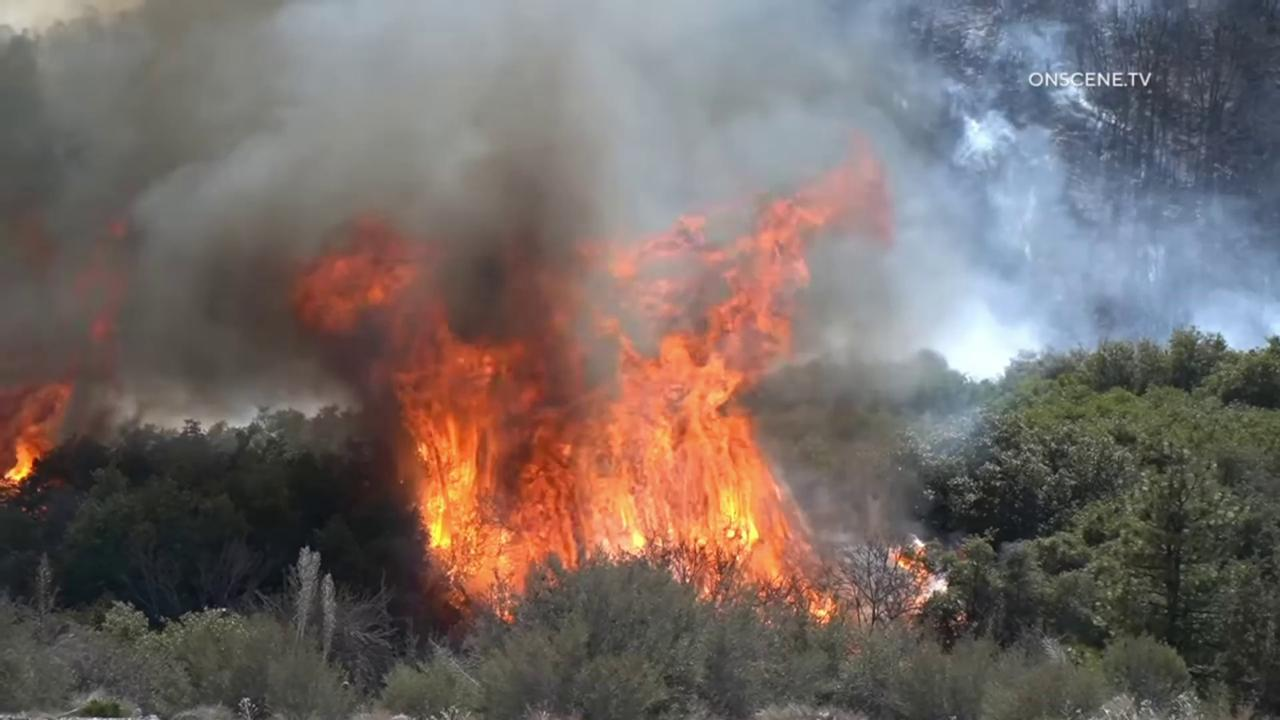fire: (289, 133, 888, 626), (0, 380, 76, 512), (890, 547, 935, 629)
smoke: (0, 0, 1280, 554)
